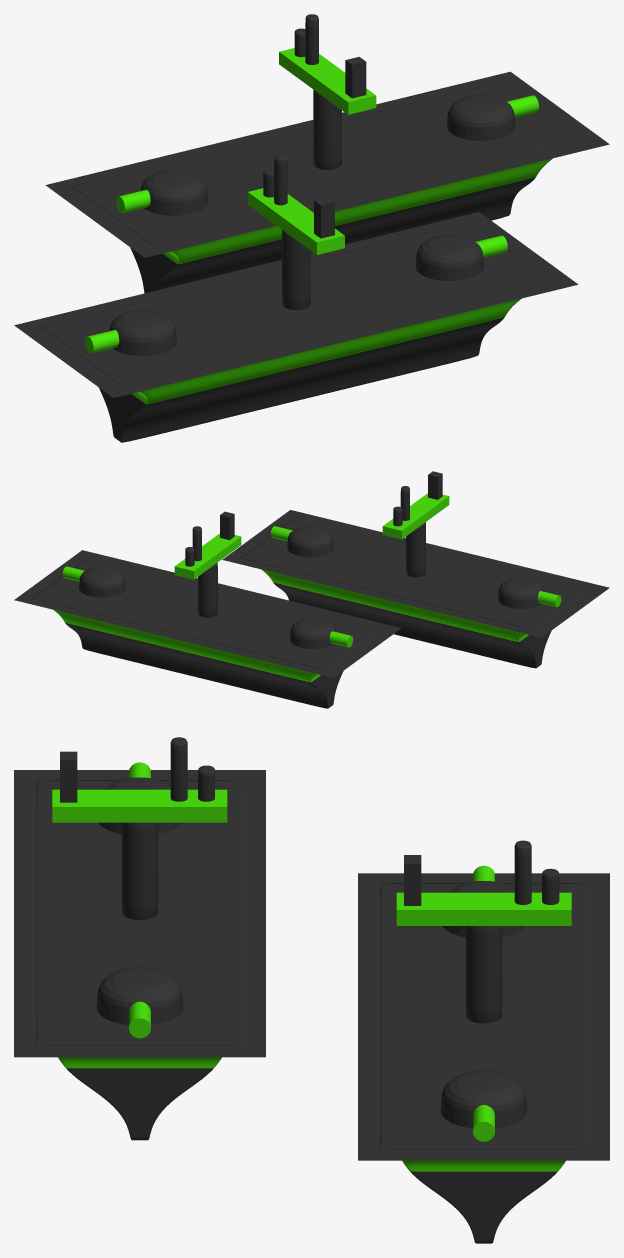
Rendered from Destroyer.fbx.
3 renders of one model, top to bottom at view 1: azimuth 30°, elevation 25°; view 2: azimuth 150°, elevation 25°; view 3: azimuth 270°, elevation 25°, orthographic. The views are drawn at different scales.
Visible parts, largest first — view 1: Cube.004, Cube, Cube.007, Cube.003, Sphere, Sphere.002, Cube.001, Cube.005, Sphere.001, Sphere.003, Cylinder, Cylinder.005 (+6 smaller); view 2: Cube, Cube.004, Cube.003, Cube.007, Sphere, Sphere.002, Cube.001, Cube.005, Sphere.003, Sphere.001, Cylinder.005, Cylinder (+2 smaller); view 3: Cube, Cube.004, Cube.003, Cube.007, Cube.005, Cube.001, Sphere, Sphere.002, Cylinder.005, Cylinder, Cylinder.007, Cylinder.002 (+6 smaller).
Part boxes in pixels (x1=…): Cube.004: x1=41, y1=222, x2=550, y2=442; Cube: x1=73, y1=82, x2=582, y2=293; Cube.007: x1=14, y1=212, x2=577, y2=397; Cube.003: x1=45, y1=71, x2=609, y2=257; Sphere: x1=447, y1=94, x2=515, y2=140; Sphere.002: x1=415, y1=235, x2=483, y2=280; Cube.001: x1=279, y1=48, x2=376, y2=114; Cube.005: x1=247, y1=188, x2=344, y2=254; Sphere.001: x1=140, y1=169, x2=208, y2=215; Sphere.003: x1=109, y1=310, x2=176, y2=355; Cylinder: x1=313, y1=89, x2=341, y2=169; Cylinder.005: x1=282, y1=230, x2=310, y2=309; Cube: x1=33, y1=557, x2=382, y2=708; Cube.004: x1=241, y1=517, x2=590, y2=668; Cube.003: x1=14, y1=550, x2=401, y2=677; Cube.007: x1=222, y1=510, x2=609, y2=637; Sphere: x1=79, y1=566, x2=125, y2=597; Sphere.002: x1=287, y1=525, x2=333, y2=557; Cube.001: x1=174, y1=533, x2=241, y2=579; Cube.005: x1=382, y1=493, x2=449, y2=539; Sphere.003: x1=498, y1=577, x2=544, y2=608; Sphere.001: x1=290, y1=617, x2=336, y2=649; Cylinder.005: x1=406, y1=522, x2=425, y2=577; Cylinder: x1=198, y1=562, x2=217, y2=617; Cube: x1=380, y1=883, x2=587, y2=1243; Cube.004: x1=36, y1=780, x2=243, y2=1140; Cube.003: x1=358, y1=873, x2=609, y2=1160; Cube.007: x1=14, y1=770, x2=265, y2=1057; Cube.005: x1=52, y1=789, x2=227, y2=822; Cube.001: x1=396, y1=892, x2=571, y2=925; Sphere: x1=440, y1=1070, x2=527, y2=1128; Sphere.002: x1=96, y1=967, x2=183, y2=1024; Cylinder.005: x1=121, y1=822, x2=158, y2=919; Cylinder: x1=465, y1=926, x2=502, y2=1023; Cylinder.007: x1=170, y1=737, x2=187, y2=801; Cylinder.002: x1=514, y1=840, x2=531, y2=904.
Size of the model in its own units: 264 by 91.82 by 170.
